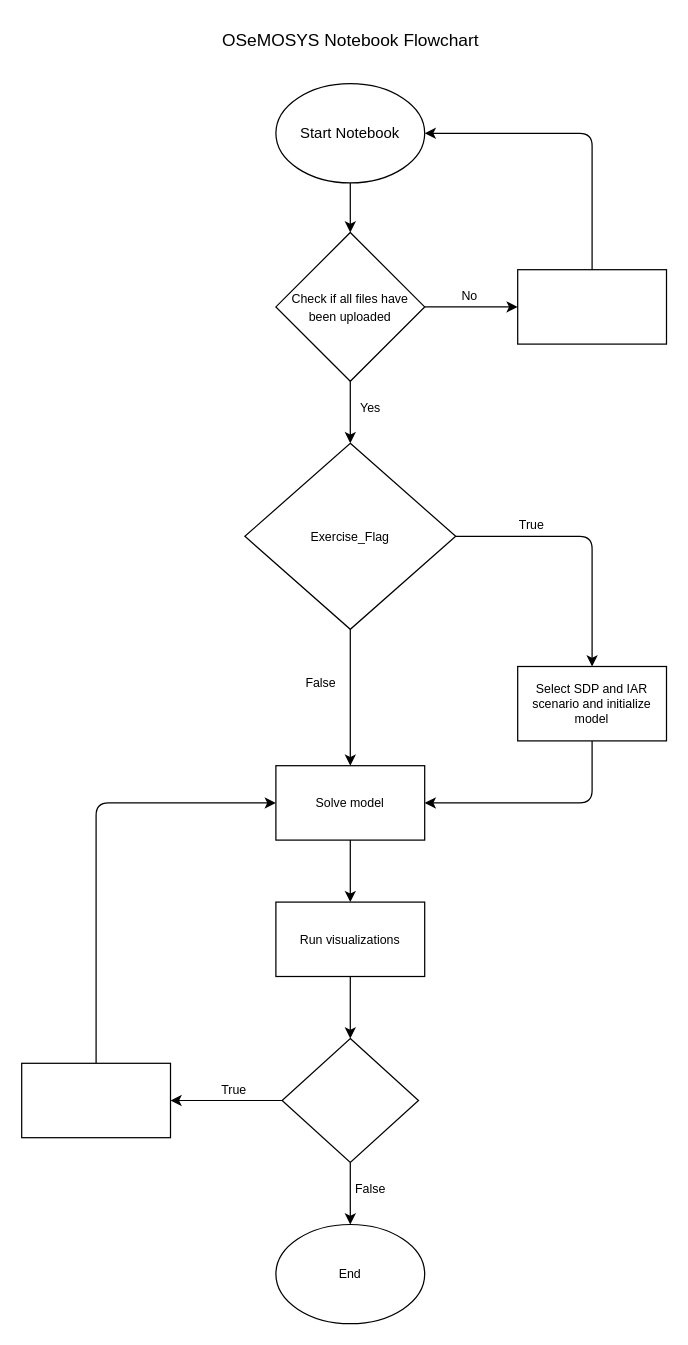
This 688x1345 diagram has some shape labels left out. Here are the shapes that lost their labels. From the top down, the centre of each, then its label:
the point at 591,306: Upload files
the point at 95,1100: Get student input for costs and turning storage on, or off
the point at 349,1099: Costs and storage control flag
